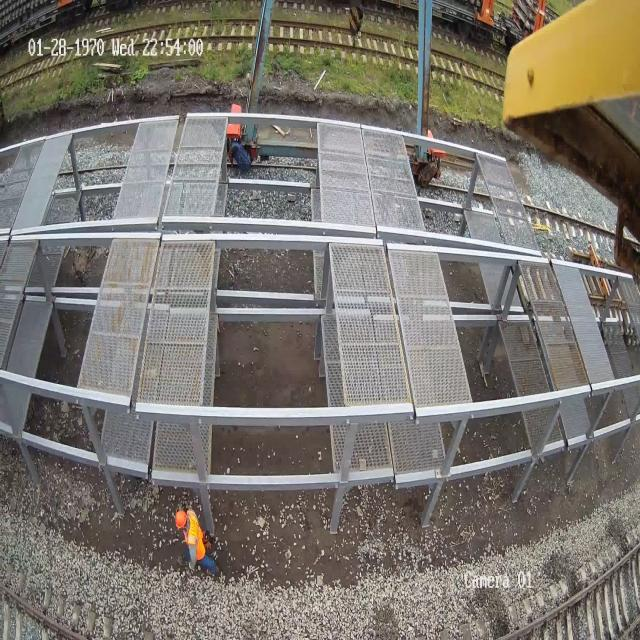Helmet: (175, 509, 187, 528)
Person: (175, 508, 220, 576)
